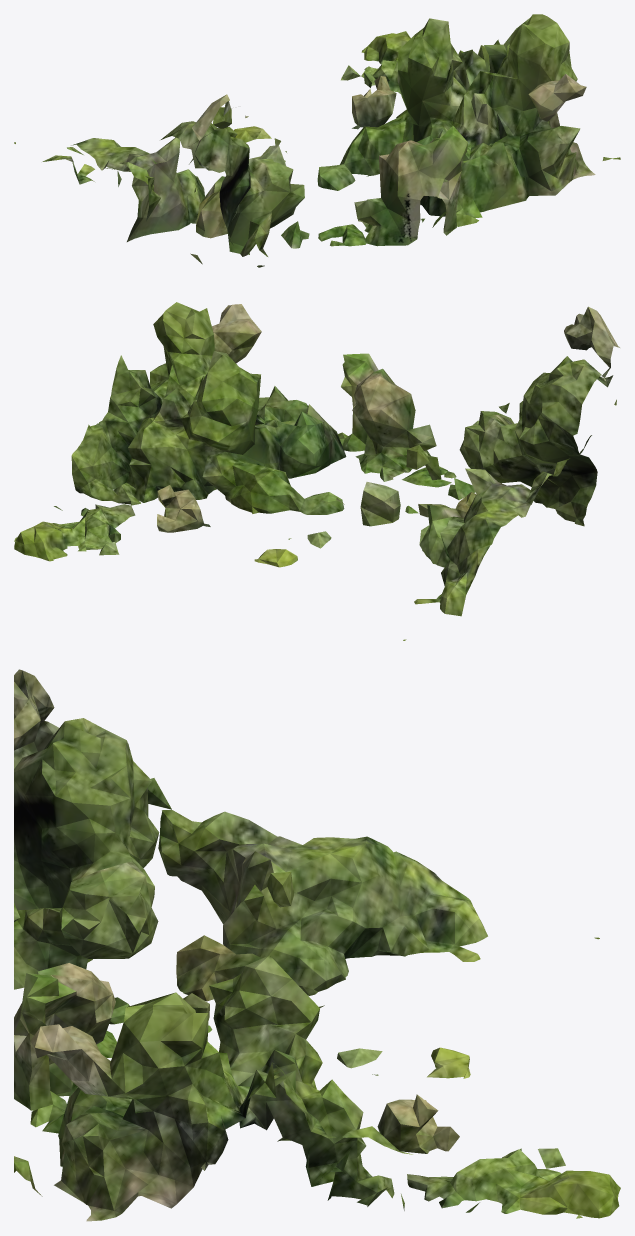
The picture shows the model from 3 angles, top to bottom: view 1: azimuth 30°, elevation 25°; view 2: azimuth 150°, elevation 25°; view 3: azimuth 270°, elevation 25°; orthographic projection. The views are drawn at different scales.
Bounding box in the file's own units: 52.22 × 22.76 × 45.25.
Materials: 3 (3 with a texture image).
